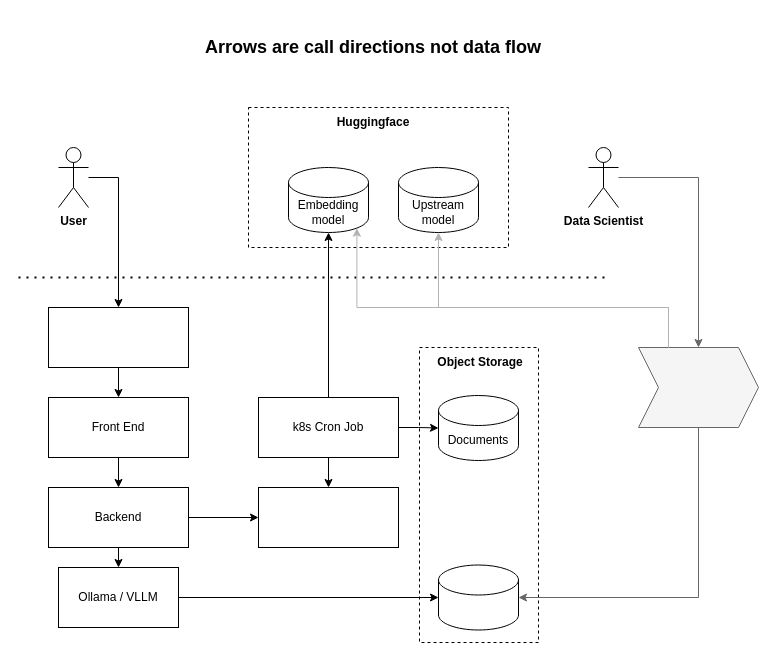
Some shapes in this 776 by 660 pixel diagram are drawn without their labels. Each missing label, with the centre of its shape:
Fine tuned model: (478,597)
Milvus: (328,517)
RHOAI workflow (Details TBC): (698,387)
Route: (118,337)
